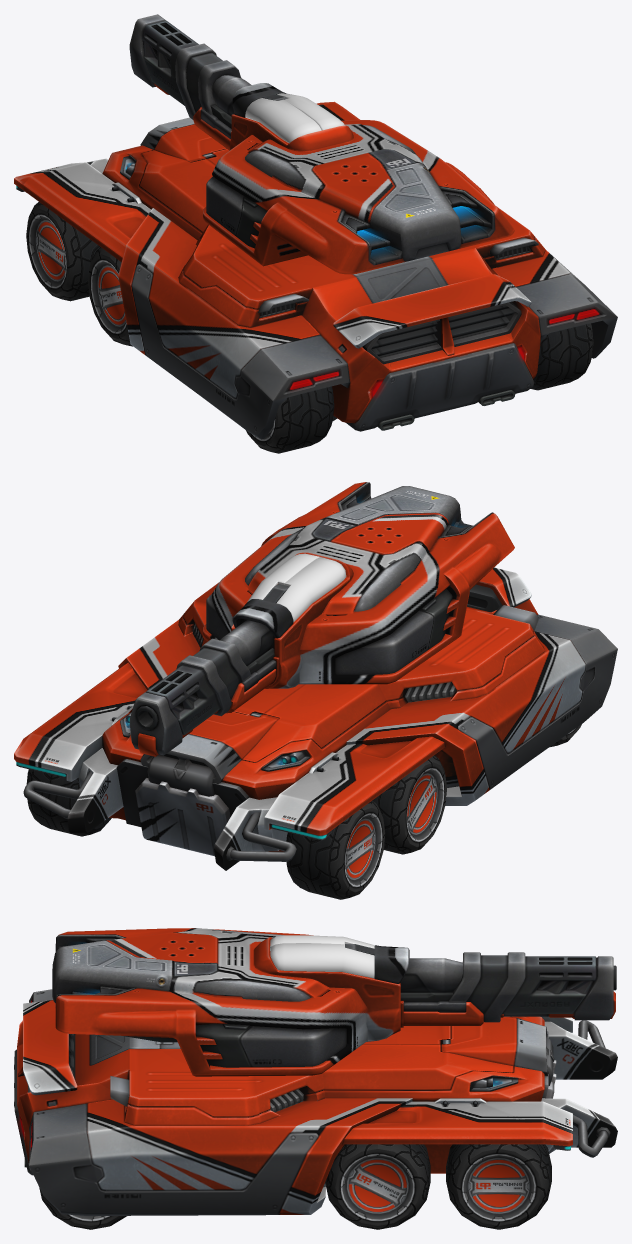
Rendered from GT_ThunderViking.glb.
The picture shows the model from 3 angles, top to bottom: view 1: azimuth 30°, elevation 25°; view 2: azimuth 150°, elevation 25°; view 3: azimuth 270°, elevation 25°; orthographic projection. The views are drawn at different scales.
Visible parts, largest first — view 1: hull, turret, lwheel_1, barrel, lwheel_5, rwheel_5, lwheel_2, cover_l, cover_r; view 2: hull, turret, barrel, lwheel_1, lwheel_2, cover_l, rwheel_1, cover_r; view 3: hull, turret, barrel, rwheel_1, rwheel_2, cover_r, rwheel_5, cover_l.
Boxes of the visible parts, box(x1,y1,x2,y2) form: hull: box(14, 101, 617, 439); turret: box(175, 43, 514, 274); lwheel_1: box(26, 202, 100, 301); barrel: box(129, 14, 251, 116); lwheel_5: box(246, 386, 334, 453); rwheel_5: box(530, 323, 593, 390); lwheel_2: box(88, 247, 132, 346); cover_l: box(245, 98, 321, 143); cover_r: box(277, 93, 344, 130); hull: box(14, 567, 617, 870); turret: box(176, 482, 514, 716); barrel: box(129, 620, 273, 756); lwheel_1: box(286, 800, 385, 899); lwheel_2: box(372, 755, 446, 854); cover_l: box(276, 557, 346, 622); rwheel_1: box(26, 769, 111, 836); cover_r: box(247, 553, 319, 602); hull: box(14, 989, 617, 1215); turret: box(52, 928, 525, 1076); barrel: box(400, 956, 616, 1020); rwheel_1: box(446, 1144, 551, 1229); rwheel_2: box(325, 1144, 430, 1229); cover_r: box(270, 943, 374, 978); rwheel_5: box(39, 1188, 126, 1229); cover_l: box(270, 935, 374, 948).
Bounding box in the file's own units: 348 × 214 × 539.
Materials: 3 (3 with a texture image).
